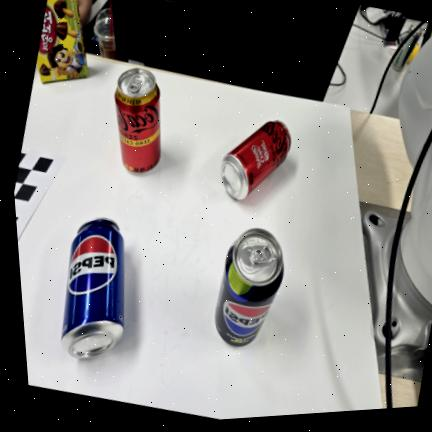can_coke_decaf: (114, 68, 160, 173)
can_coke_zero: (220, 120, 290, 199)
can_pepsi: (61, 218, 124, 358)
can_pepsi_zero: (214, 228, 283, 346)
